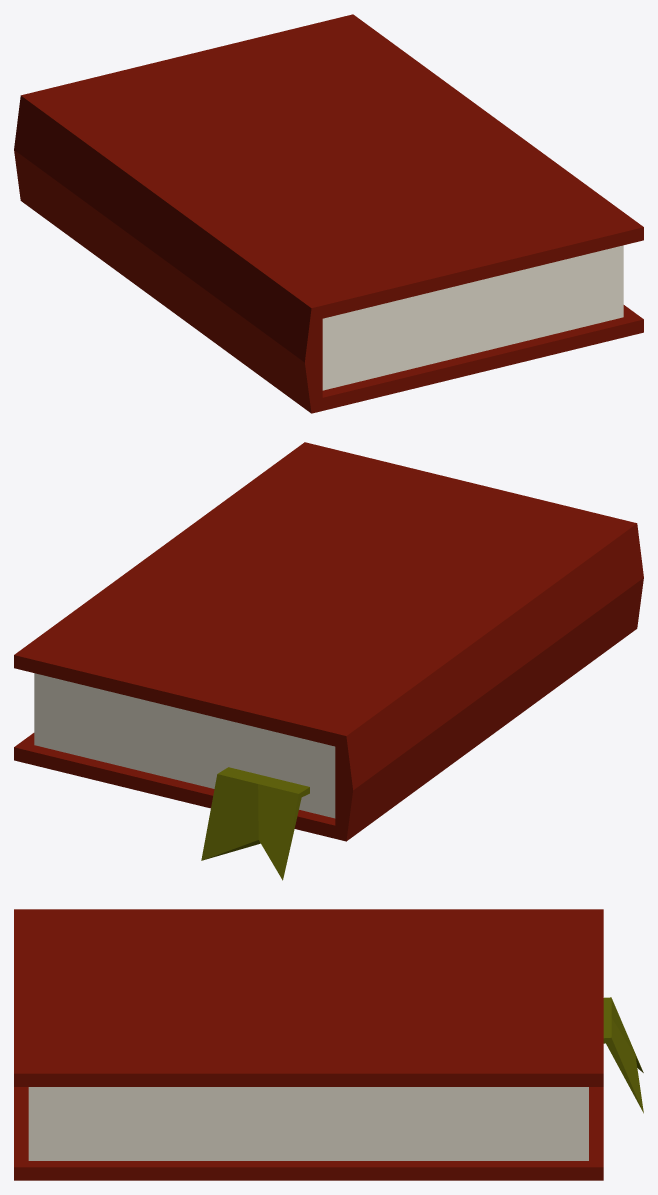
The model's file is Book_1.fbx.
3 renders of one model, top to bottom at view 1: azimuth 30°, elevation 25°; view 2: azimuth 150°, elevation 25°; view 3: azimuth 270°, elevation 25°, orthographic.
Visible parts, largest first — view 1: pCube780; view 2: pCube780; view 3: pCube780.
Boxes of the visible parts, x1,y1,x2,y2 form: pCube780: (14, 14, 643, 413); pCube780: (14, 442, 643, 880); pCube780: (14, 909, 643, 1180).
Bounding box in the file's own units: 33.67 × 13.35 × 53.43.
